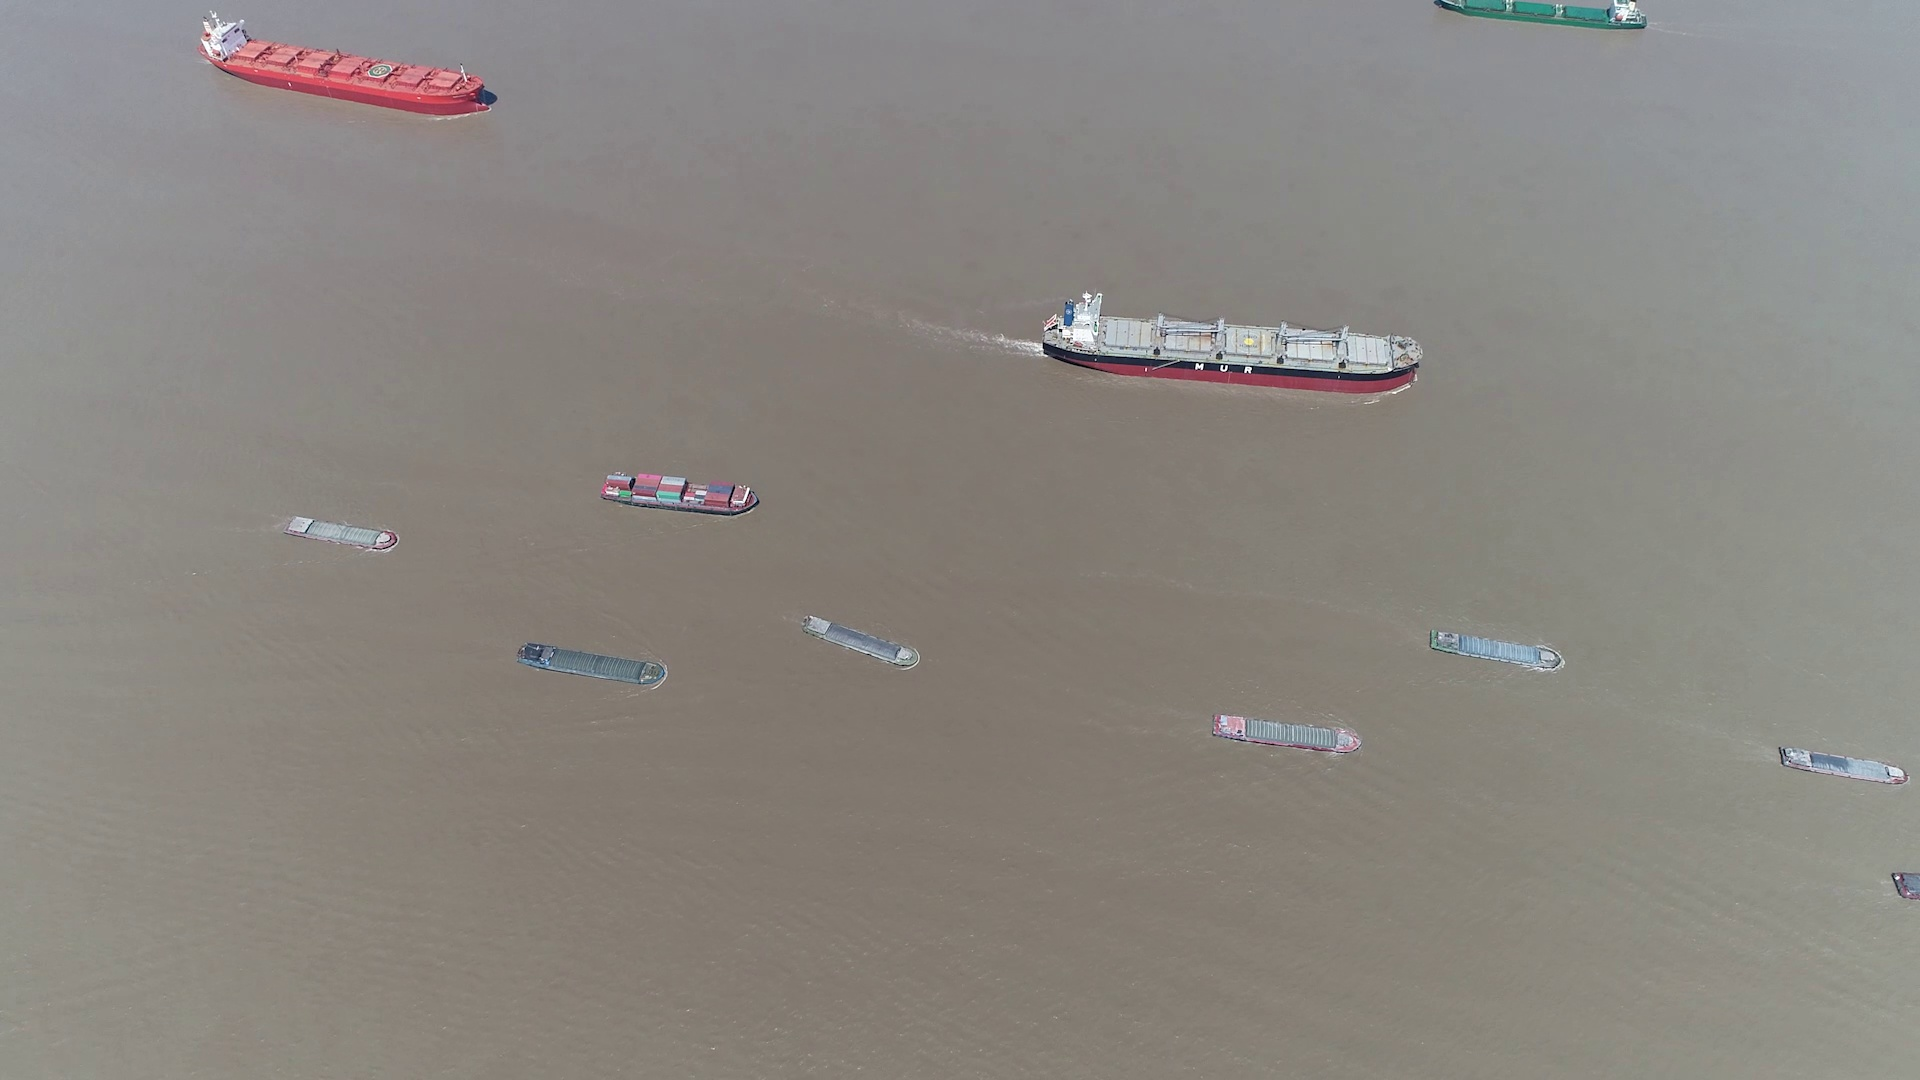ship: (1047, 294, 1422, 393), (200, 15, 495, 116), (601, 469, 761, 516), (1435, 0, 1648, 33), (804, 615, 920, 673), (520, 644, 669, 688), (1212, 713, 1360, 756), (1429, 629, 1565, 673), (1778, 745, 1908, 785), (284, 514, 397, 551), (1892, 872, 1919, 903)
